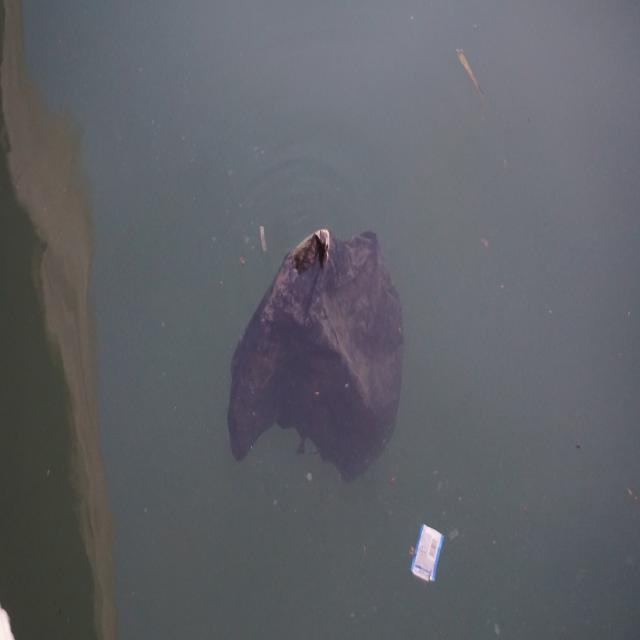Kantong Plastik: (218, 219, 402, 474)
